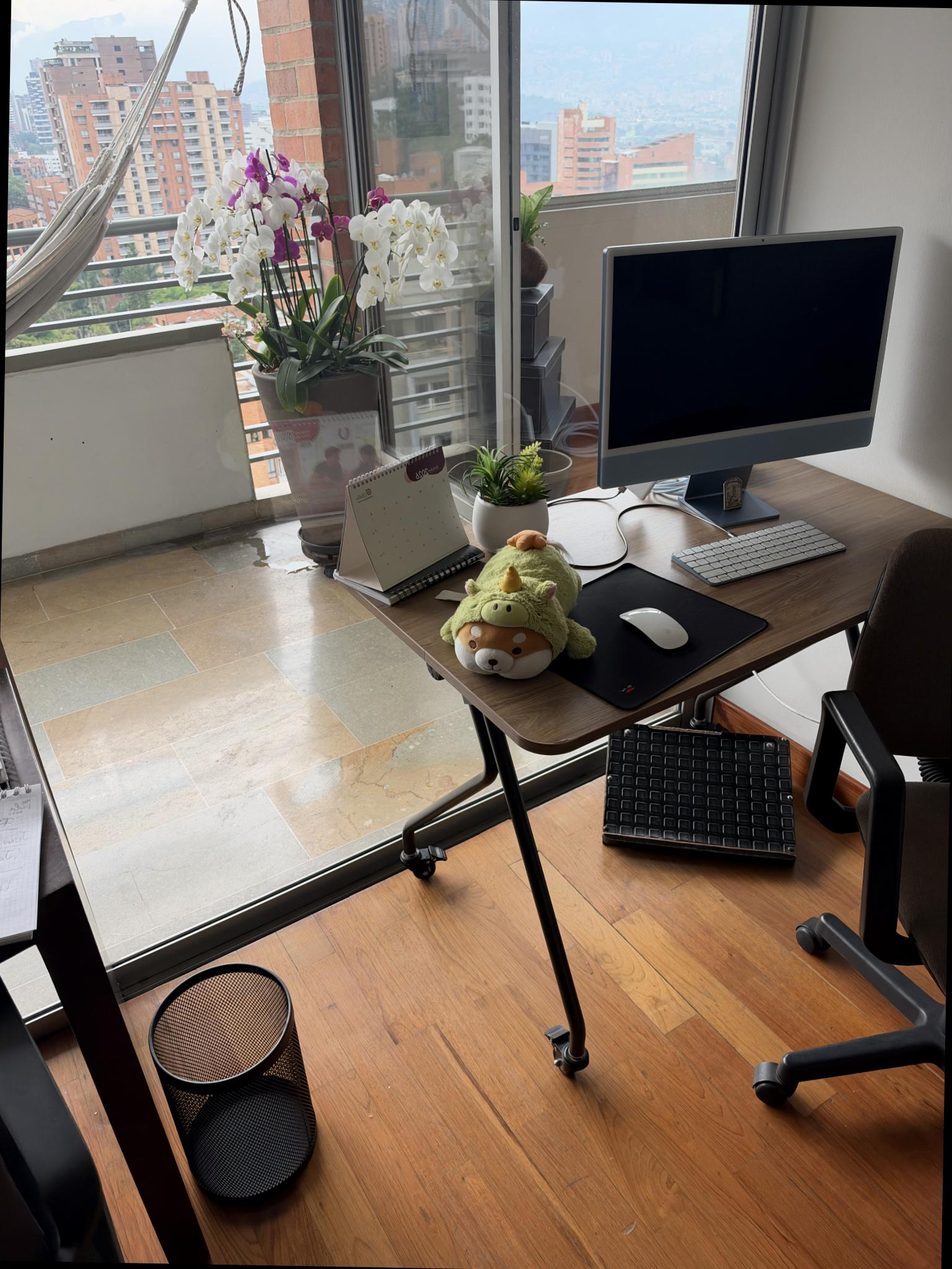peluche_martin: (438, 527, 601, 682)
